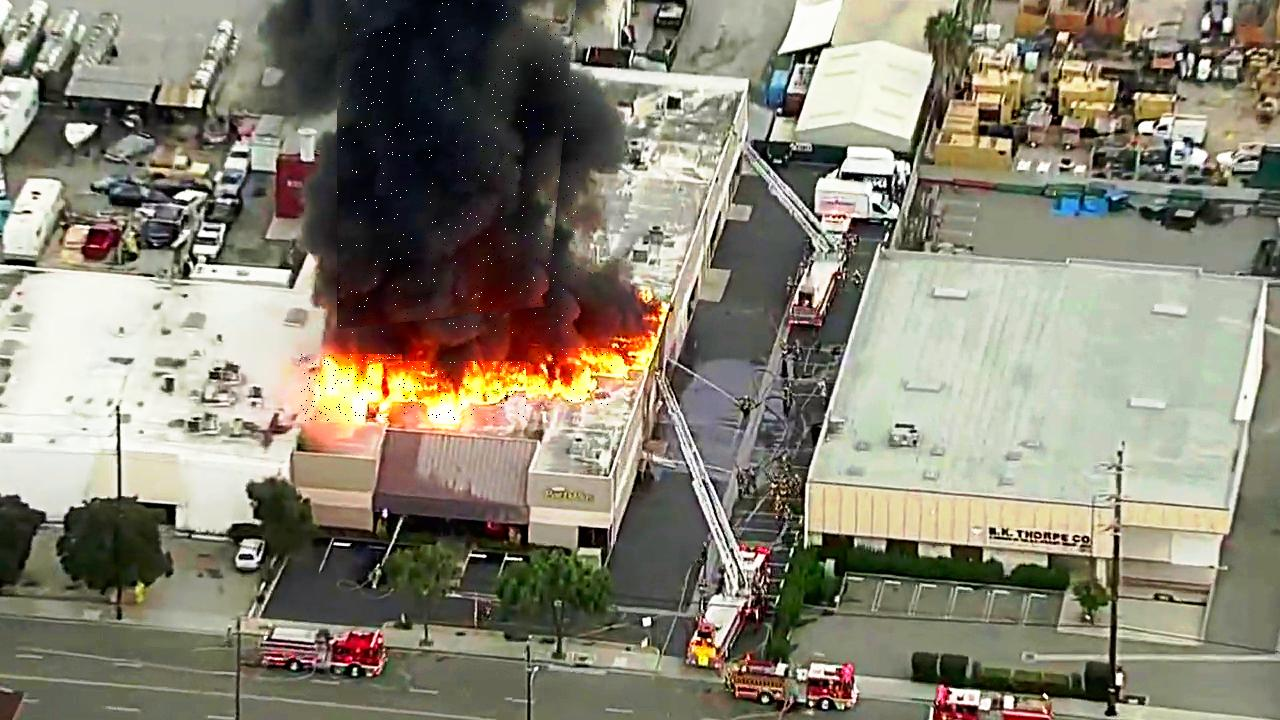fire: (370, 362, 529, 422), (300, 355, 402, 422), (529, 349, 627, 408)
smoke: (337, 0, 579, 333)
